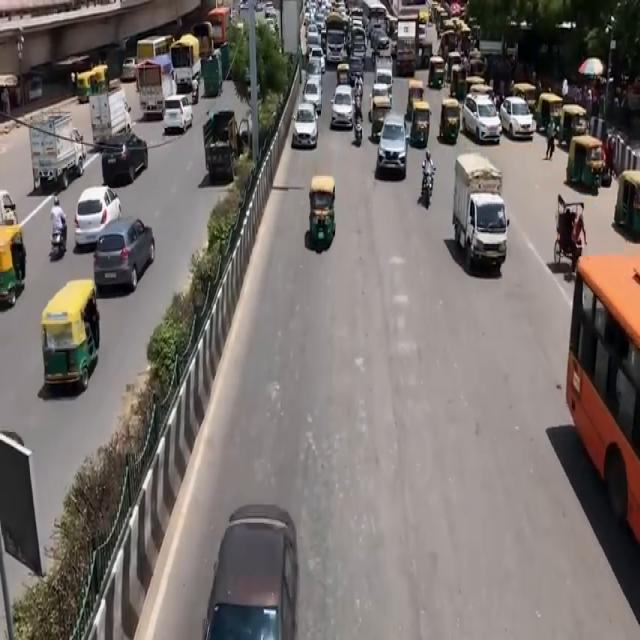MOTORCYCLE: (422, 168, 434, 208)
TRUCK: (568, 257, 639, 635), (456, 157, 510, 276), (170, 36, 203, 93)
